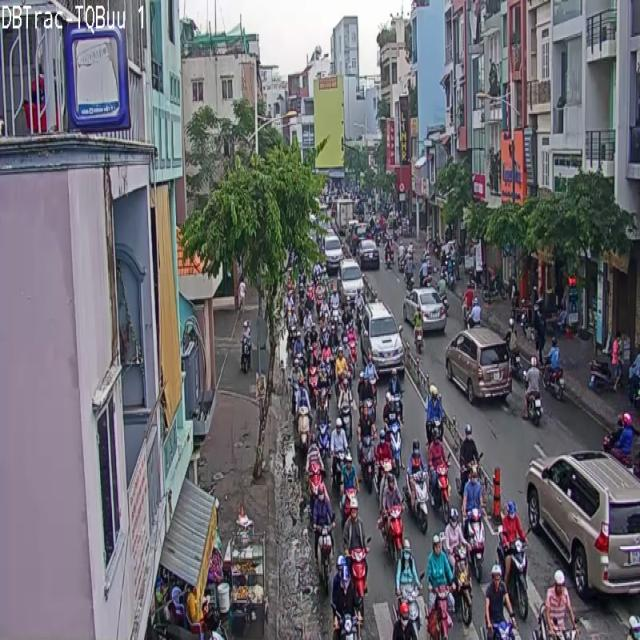car: (426, 535, 454, 639), (313, 492, 334, 587), (378, 502, 403, 559), (402, 586, 426, 639), (349, 548, 366, 597)
traffic-light: (526, 451, 639, 593), (446, 326, 511, 402), (362, 300, 403, 371), (403, 287, 446, 331), (338, 259, 363, 299)
